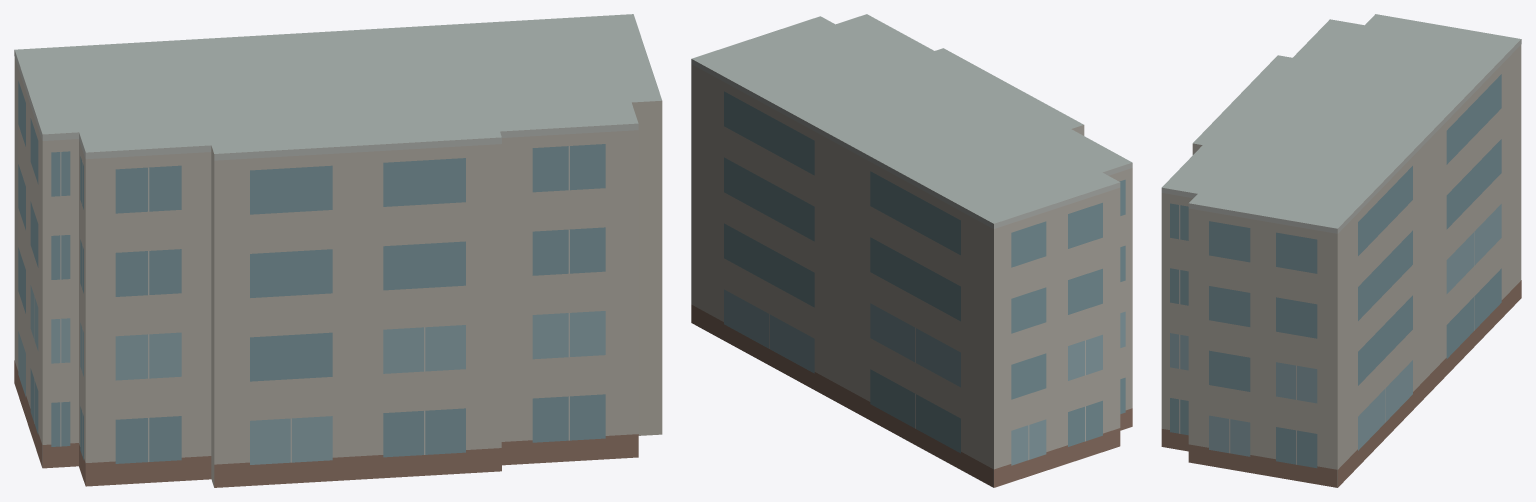
File: survey-upis-33004706.glb
3 renders of one model, left to right at view 1: azimuth 30°, elevation 25°; view 2: azimuth 150°, elevation 25°; view 3: azimuth 270°, elevation 25°, orthographic. The views are drawn at different scales.
Parts seen in each view (by area): view 1: survey-upis-33004706.tmp; view 2: survey-upis-33004706.tmp; view 3: survey-upis-33004706.tmp.
Part boxes in pixels (x1,y1,x2,y2): survey-upis-33004706.tmp: (14,14,662,487); survey-upis-33004706.tmp: (691,14,1132,487); survey-upis-33004706.tmp: (1161,14,1521,487).
Bounding box in the file's own units: 21.68 × 12.2 × 15.36.
